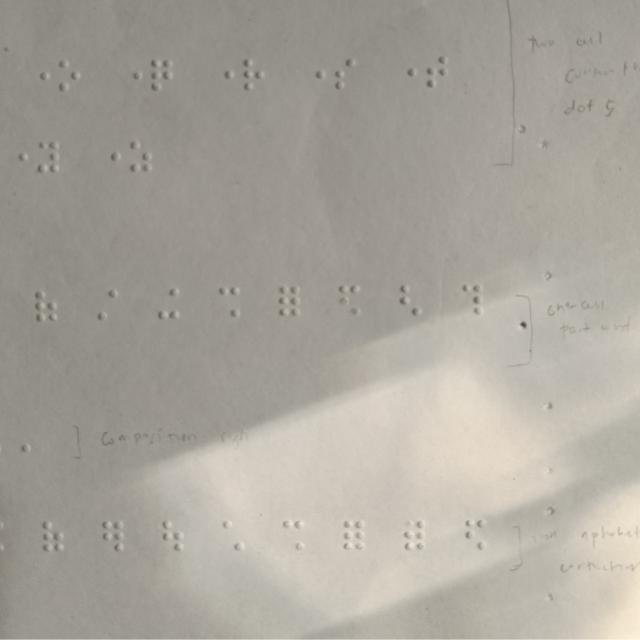dot_5: (6, 141, 29, 176), (98, 139, 121, 172), (302, 60, 325, 92), (395, 58, 418, 90), (29, 60, 51, 92), (120, 61, 142, 93), (212, 59, 234, 91)
one_cell_non_alphabet_hanggang: (43, 523, 63, 553)
one_cell_non_alphabet_ibig: (96, 290, 119, 321)
one_cell_non_alphabet_kanila: (223, 519, 242, 550)
one_cell_non_alphabet_maging: (282, 519, 306, 552)
one_cell_non_alphabet_mahal: (278, 286, 300, 317), (343, 519, 364, 550)
one_cell_non_alphabet_na: (404, 521, 426, 551)
one_cell_non_alphabet_naging: (465, 519, 486, 550)
one_cell_non_alphabet_pag: (462, 284, 482, 315)
one_cell_non_alphabet_raw: (103, 521, 123, 554)
one_cell_non_alphabet_tunay: (162, 519, 183, 552)
one_cell_part_word_han: (35, 290, 57, 321)
one_cell_part_word_ibig: (96, 290, 119, 321)
one_cell_part_word_ing: (157, 289, 179, 320)
one_cell_part_word_mag: (218, 287, 241, 318)
one_cell_part_word_mahal: (278, 286, 300, 317)
one_cell_part_word_nag: (338, 285, 360, 316)
one_cell_part_word_ng: (399, 285, 422, 316)
one_cell_part_word_pag: (462, 284, 482, 315)
two_cell_alphabet_ayaw: (37, 140, 59, 175)
two_cell_alphabet_kislap: (150, 60, 172, 92)
two_cell_alphabet_opo: (59, 60, 82, 92)
two_cell_alphabet_roon: (242, 58, 265, 91)
two_cell_alphabet_salita: (130, 139, 153, 172)
two_cell_alphabet_subalit: (334, 59, 357, 92)
two_cell_alphabet_talaga: (426, 57, 449, 89)
